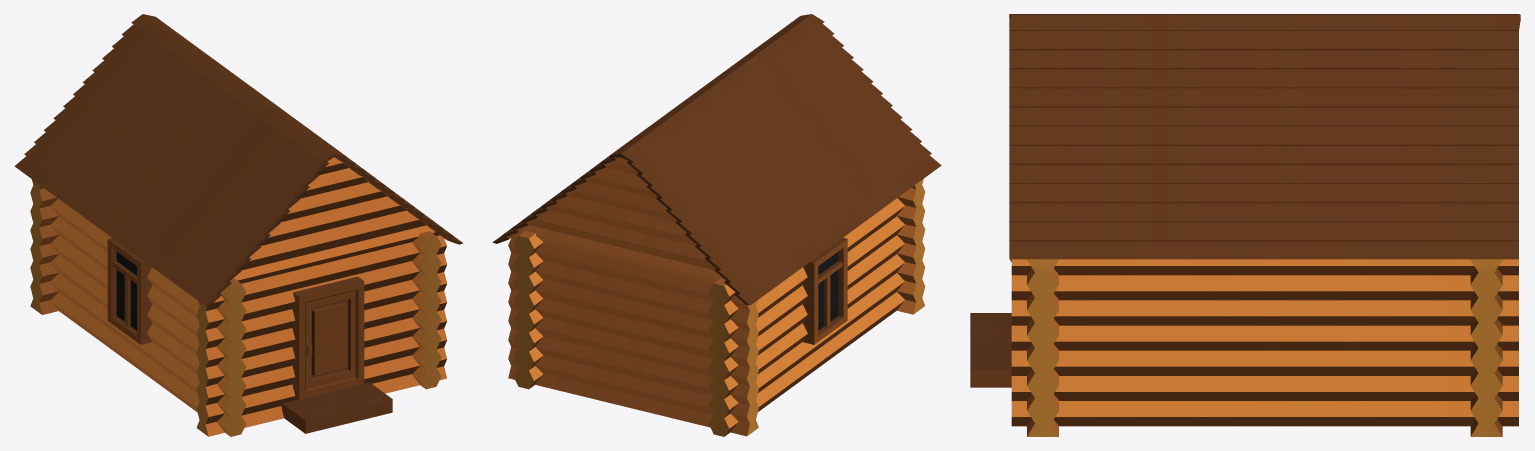
The model's file is Wood house.fbx.
3 renders of one model, left to right at view 1: azimuth 30°, elevation 25°; view 2: azimuth 150°, elevation 25°; view 3: azimuth 270°, elevation 25°, orthographic. The views are drawn at different scales.
Parts seen in each view (by area): view 1: wood_house; view 2: wood_house; view 3: wood_house.
Part boxes in pixels (x1,y1,x2,y2): wood_house: [14, 14, 462, 436]; wood_house: [492, 14, 941, 436]; wood_house: [970, 14, 1520, 436].
Bounding box in the file's own units: 20.97 × 20.05 × 29.04.
